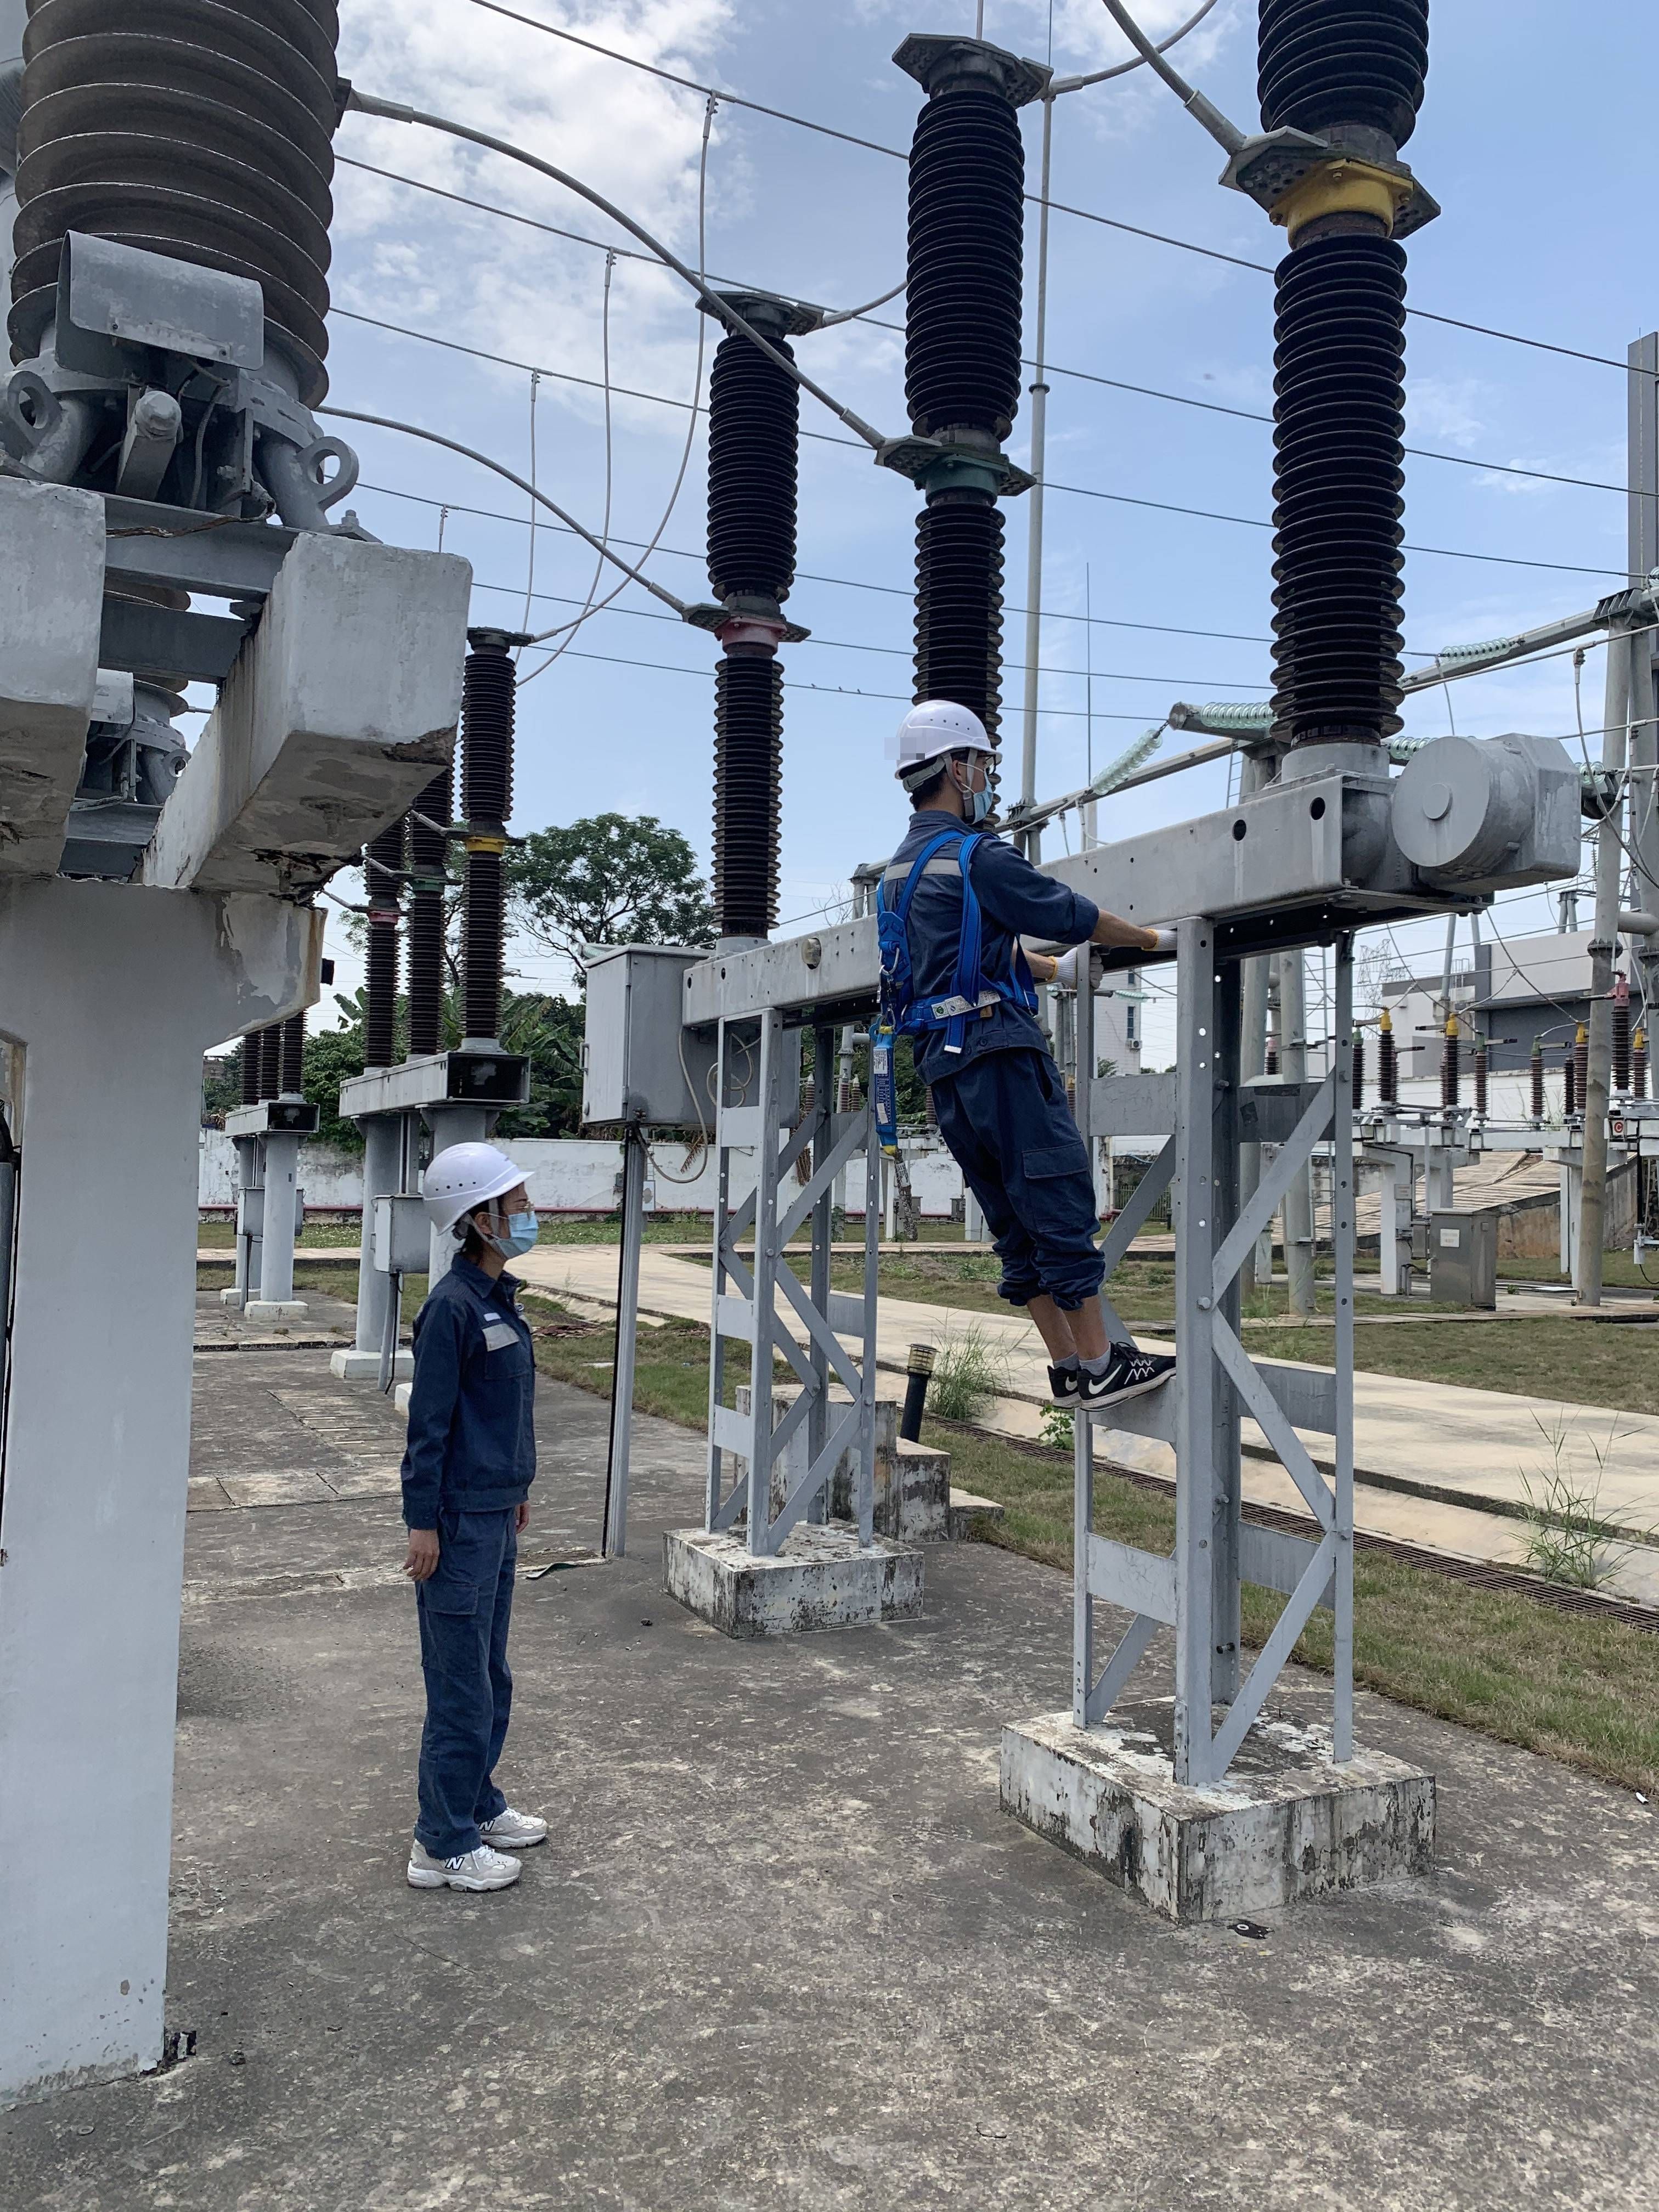downsuit: (941, 1069, 1108, 1294), (411, 1526, 509, 1843)
upsuit: (885, 834, 1042, 1052), (420, 1285, 532, 1500)
wrongbottom: (1011, 1266, 1133, 1385)
wrongtop: (1072, 883, 1182, 977)
